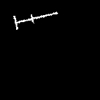double_crochet: (14, 12, 57, 28)
